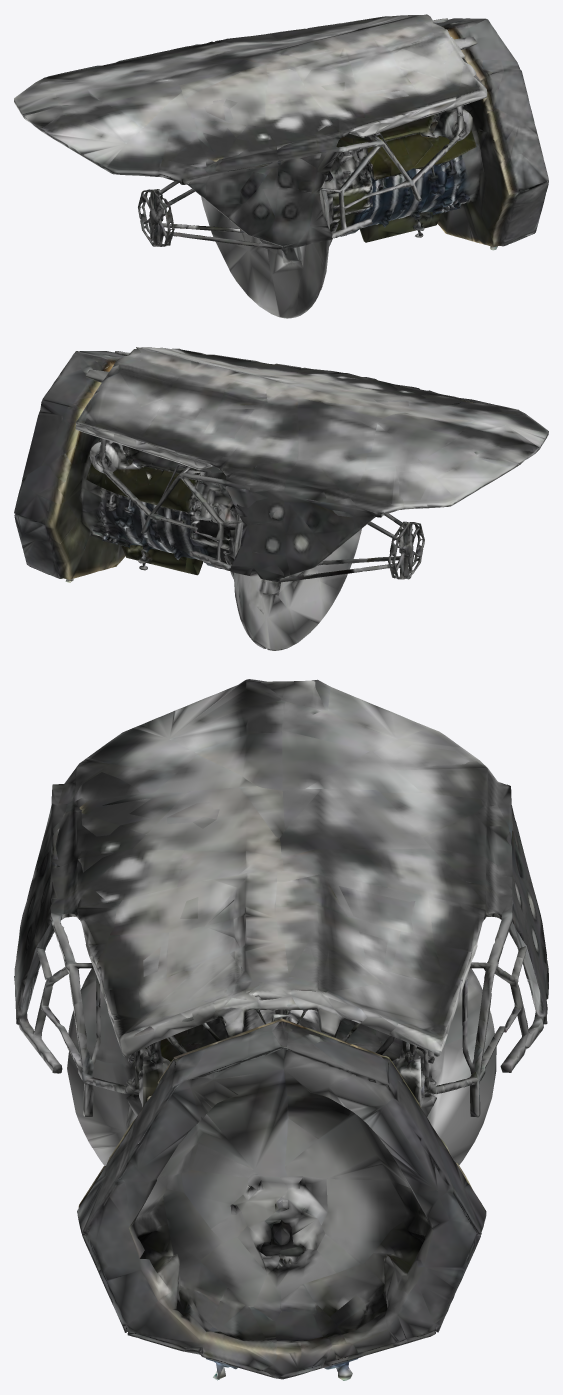
File: herschel-low.glb
3 views of the same model, one above another, from view 1: azimuth 30°, elevation 25°; view 2: azimuth 150°, elevation 25°; view 3: azimuth 270°, elevation 25° (orthographic). The views are drawn at different scales.
Size of the model in its own units: 1.9 by 0.9787 by 1.2.
1 material, 1 textured.
